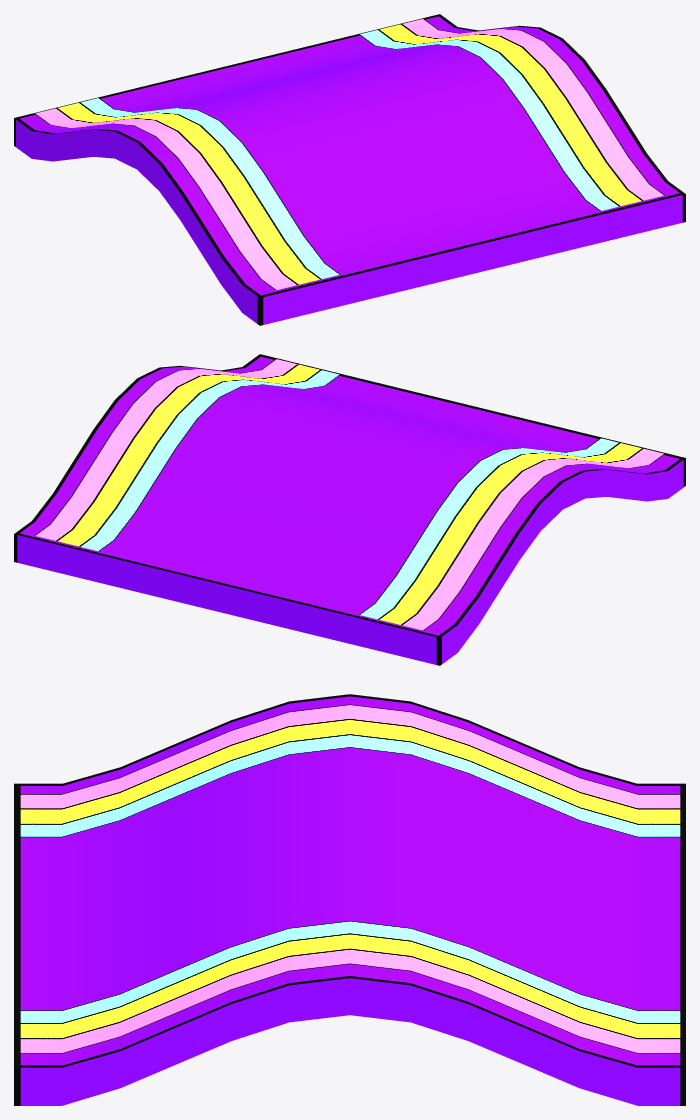
File: cocobay_bigwave.gltf
3 renders of one model, top to bottom at view 1: azimuth 30°, elevation 25°; view 2: azimuth 150°, elevation 25°; view 3: azimuth 270°, elevation 25°, orthographic. The views are drawn at different scales.
Visible parts, largest first — view 1: cocobay_bigwave_glb; view 2: cocobay_bigwave_glb; view 3: cocobay_bigwave_glb.
Boxes of the visible parts, x1,y1,x2,y2 form: cocobay_bigwave_glb: [14, 14, 685, 325]; cocobay_bigwave_glb: [14, 354, 685, 665]; cocobay_bigwave_glb: [14, 694, 685, 1105].
Size of what is drawn, in the model's own units: 4 by 0.8511 by 4.
2 materials, 2 textured.
